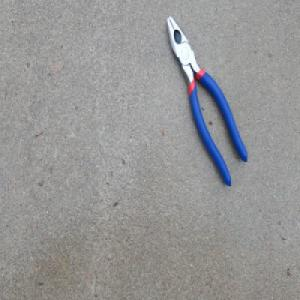Pliers: (164, 15, 249, 189)
